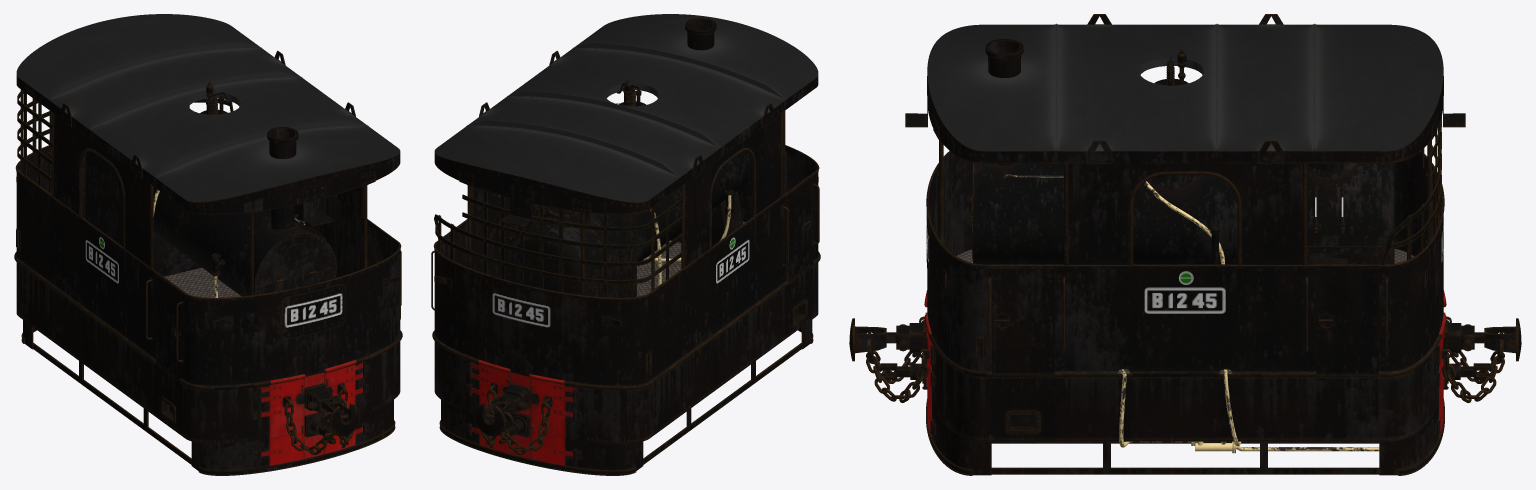
The picture shows the model from 3 angles, left to right: view 1: azimuth 30°, elevation 25°; view 2: azimuth 150°, elevation 25°; view 3: azimuth 270°, elevation 25°; orthographic projection. The views are drawn at different scales.
Visible parts, largest first — view 1: body, Cube.046, bawah (×2), boiler, pintu, Cube.019 (×3), kap, tiang, tralis, int; view 2: body, Cube.046, bawah (×2), boiler, tralis, Cube.019 (×3), kap, pintu, tiang, int, BezierCurve; view 3: body, Cube.046, bawah (×2), boiler, pintu, Cube.019, BezierCurve, tiang, tralis, int, kap.
Part boxes in pixels (x1=…): body: x1=14, y1=51, x2=402, y2=390; Cube.046: x1=16, y1=14, x2=400, y2=202; bawah (×2): x1=16, y1=262, x2=400, y2=475; boiler: x1=85, y1=109, x2=336, y2=296; pintu: x1=155, y1=220, x2=394, y2=378; Cube.019 (×3): x1=156, y1=267, x2=360, y2=458; kap: x1=260, y1=360, x2=362, y2=465; tiang: x1=16, y1=111, x2=401, y2=362; tralis: x1=17, y1=89, x2=233, y2=186; int: x1=205, y1=82, x2=326, y2=276; body: x1=432, y1=51, x2=820, y2=390; Cube.046: x1=434, y1=14, x2=818, y2=202; bawah (×2): x1=434, y1=262, x2=818, y2=475; boiler: x1=505, y1=18, x2=752, y2=297; tralis: x1=434, y1=190, x2=682, y2=297; Cube.019 (×3): x1=474, y1=221, x2=812, y2=458; kap: x1=472, y1=360, x2=574, y2=465; pintu: x1=441, y1=173, x2=812, y2=281; tiang: x1=431, y1=111, x2=819, y2=371; int: x1=505, y1=80, x2=734, y2=241; BezierCurve: x1=643, y1=195, x2=731, y2=285; body: x1=905, y1=14, x2=1465, y2=376; Cube.046: x1=927, y1=23, x2=1443, y2=151; bawah (×2): x1=926, y1=346, x2=1444, y2=475; boiler: x1=970, y1=38, x2=1394, y2=264; pintu: x1=926, y1=195, x2=1378, y2=373; Cube.019: x1=849, y1=219, x2=1521, y2=443; BezierCurve: x1=1003, y1=174, x2=1379, y2=453; tiang: x1=933, y1=114, x2=1437, y2=358; tralis: x1=1379, y1=116, x2=1441, y2=264; int: x1=1166, y1=49, x2=1345, y2=370; kap: x1=924, y1=290, x2=1446, y2=436.
Bounding box in the file's own units: 2.26 × 2.93 × 4.8.
Materials: 11 (11 with a texture image).
